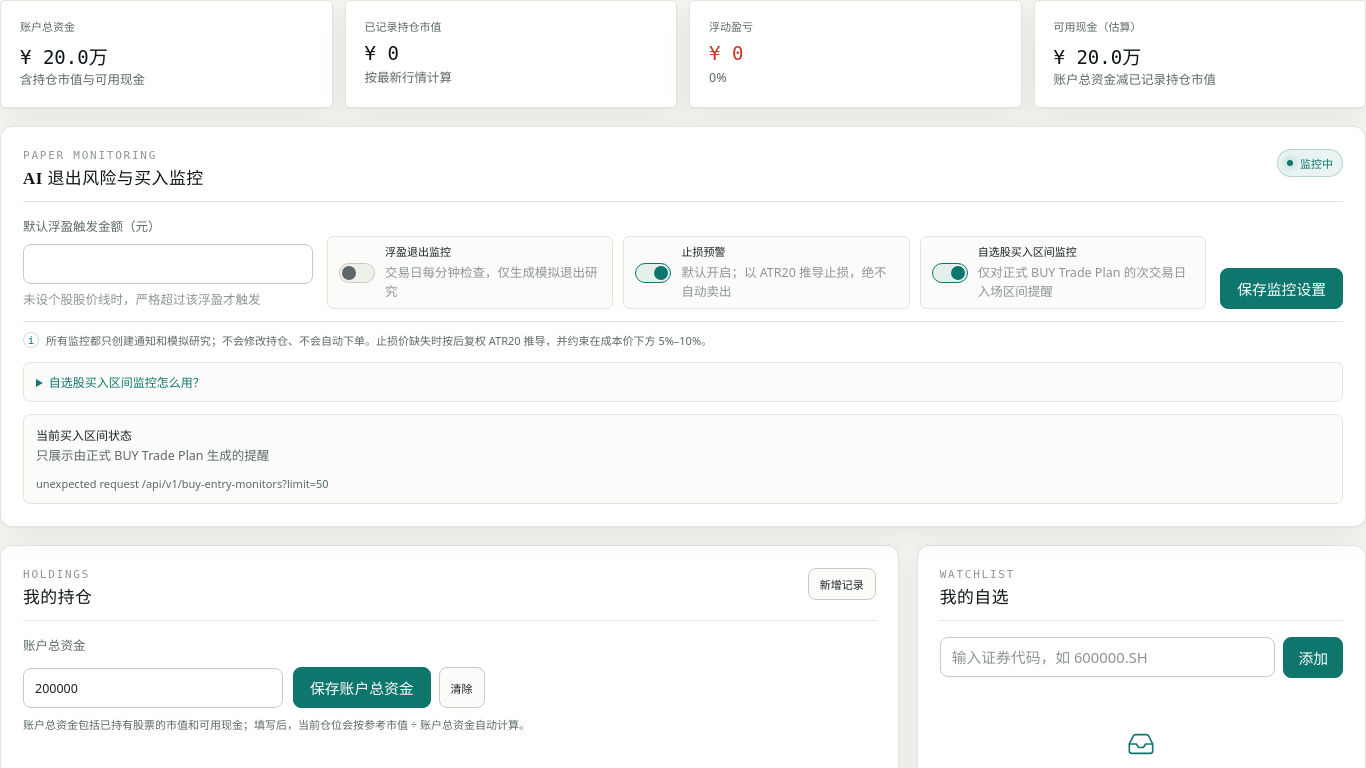
rolls the account total back when its save fails
This screenshot has width=1366, height=768.
Replace the text in the number field labelled "账户总资金" with "100000": (153, 688) [23,668,283,708]
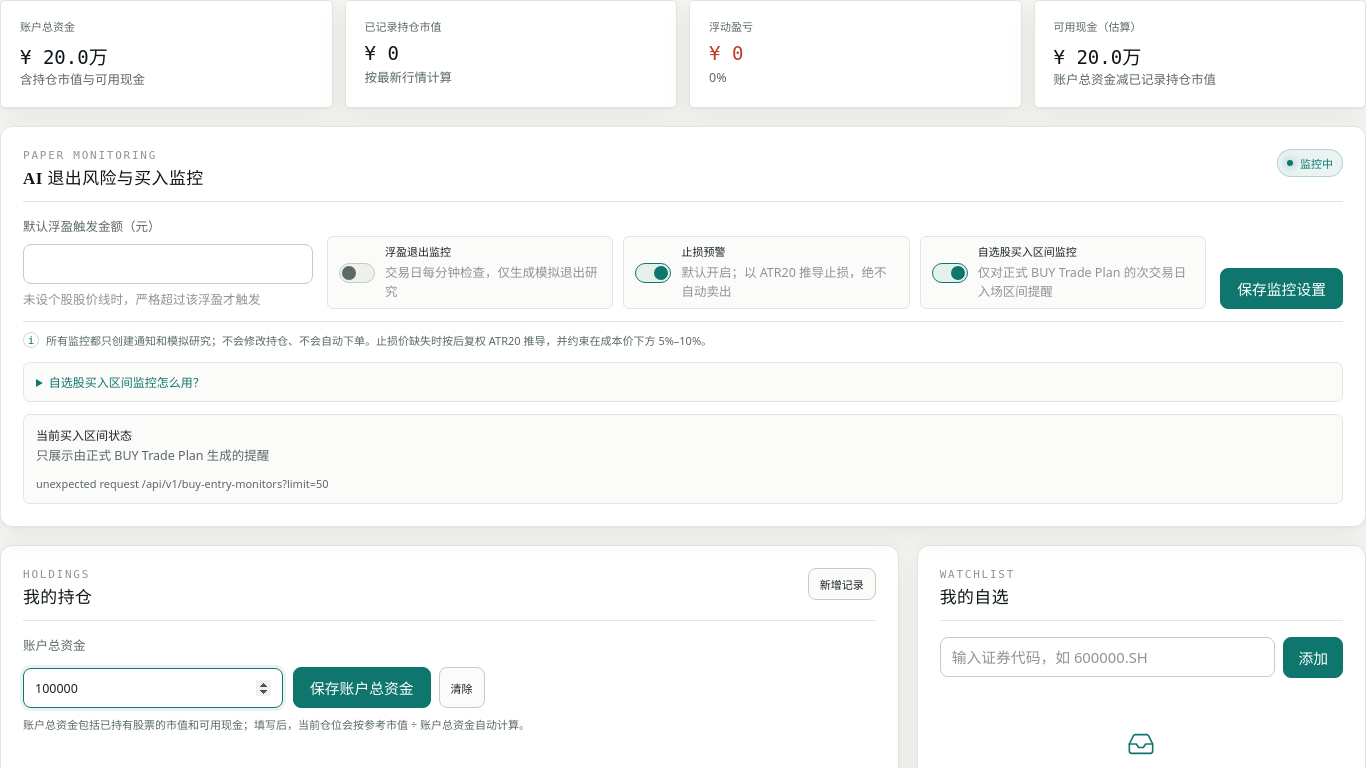
Click the button "保存账户总资金": click(362, 688) [293,667,431,708]
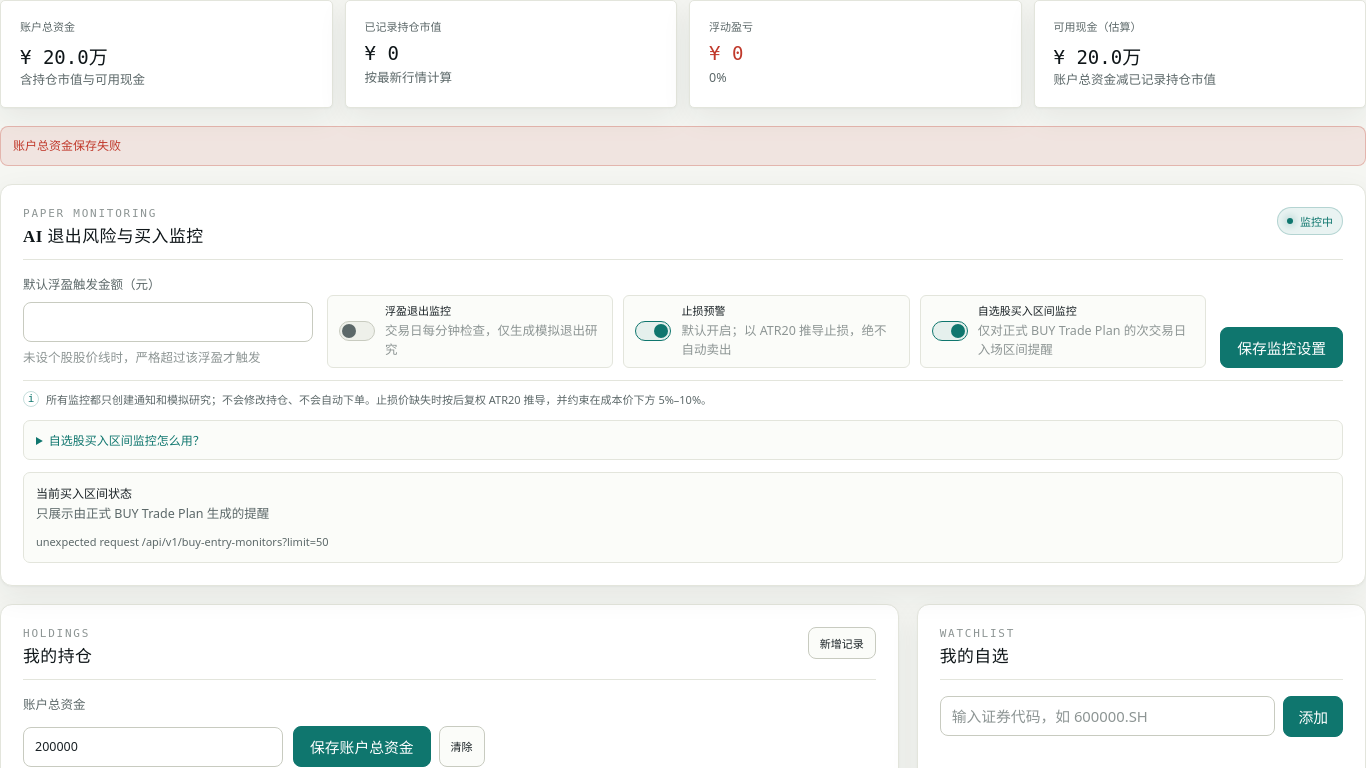
Expected: the text "账户总资金保存失败" is shown, [0,126,1365,166]
Expected: the number field labelled "账户总资金" holds "200000", [23,727,283,767]
